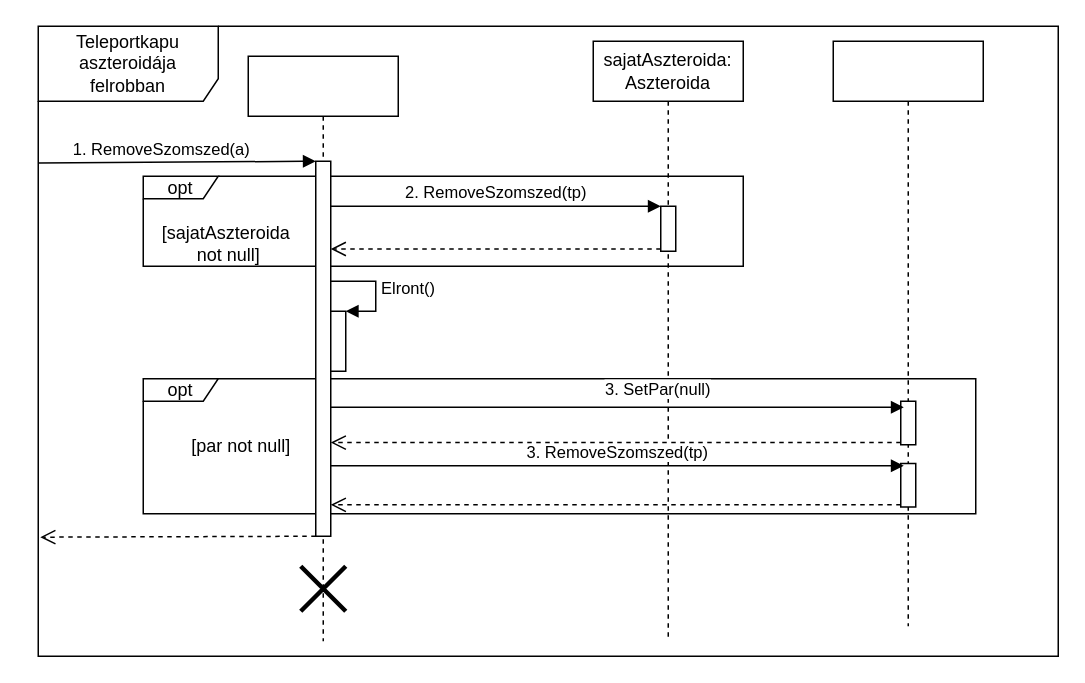
Some shapes in this 1085 by 683 pixel diagram are drawn without their labels. Here are the shapes that lost their labels. From the top down, the box of each, then its label:
(247, 55, 398, 641): tp: Teleportkapu
(832, 40, 983, 626): par: Teleportkapu
